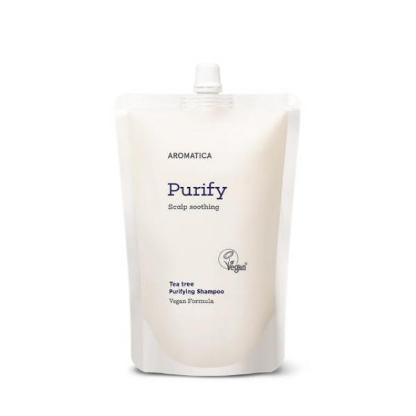Plastic Packaging: (113, 57, 301, 376)
